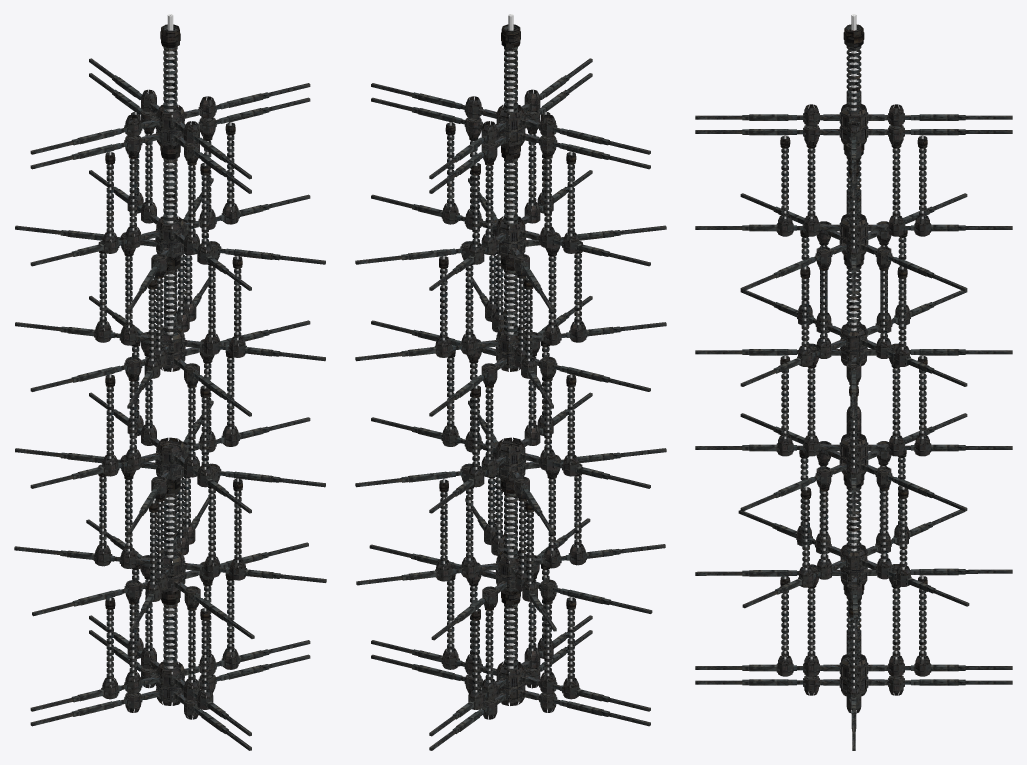
The model's file is Tower 1_20.fbx.
3 renders of one model, left to right at view 1: azimuth 30°, elevation 25°; view 2: azimuth 150°, elevation 25°; view 3: azimuth 270°, elevation 25°, orthographic.
Visible parts, largest first — view 1: spineBones_4, spineBones, spineBones_3, Main_Connector_2, spineBones_2, spineBones_1, Main_Connector, Main_Connector_5, Crossbeam_27, Crossbeam__3_, Main_Connector_4, Crossbeam__3__5 (+35 smaller); view 2: spineBones_4, Main_Connector_2, spineBones, spineBones_3, spineBones_1, spineBones_2, Main_Connector, Main_Connector_5, Crossbeam_27, Crossbeam__3_, Crossbeam__3__5, Main_Connector_4 (+38 smaller); view 3: spineBones_4, spineBones_2, spineBones_1, Crossbeam__1_, Crossbeam__2_, Crossbeam_26, Crossbeam_28, Crossbeam__1__5, Crossbeam__2__5, Crossbeam__3__1, Main_Connector_3, Main_Connector_1 (+34 smaller).
Boxes of the visible parts, x1=… form: spineBones_4: x1=163, y1=25, x2=177, y2=114; spineBones: x1=163, y1=603, x2=177, y2=671; spineBones_3: x1=163, y1=158, x2=177, y2=226; Main_Connector_2: x1=156, y1=437, x2=184, y2=483; spineBones_2: x1=163, y1=269, x2=177, y2=337; spineBones_1: x1=163, y1=492, x2=177, y2=560; Main_Connector: x1=156, y1=661, x2=184, y2=705; Main_Connector_5: x1=156, y1=104, x2=184, y2=148; Crossbeam_27: x1=30, y1=118, x2=159, y2=154; Crossbeam__3_: x1=30, y1=690, x2=159, y2=726; Main_Connector_4: x1=156, y1=216, x2=184, y2=260; Crossbeam__3__5: x1=30, y1=133, x2=159, y2=169; spineBones_4: x1=504, y1=25, x2=517, y2=114; Main_Connector_2: x1=496, y1=437, x2=525, y2=483; spineBones: x1=504, y1=603, x2=517, y2=671; spineBones_3: x1=504, y1=158, x2=517, y2=226; spineBones_1: x1=504, y1=492, x2=517, y2=560; spineBones_2: x1=504, y1=269, x2=517, y2=337; Main_Connector: x1=496, y1=661, x2=525, y2=705; Main_Connector_5: x1=496, y1=104, x2=525, y2=148; Crossbeam_27: x1=521, y1=118, x2=650, y2=154; Crossbeam__3_: x1=521, y1=690, x2=650, y2=726; Crossbeam__3__5: x1=521, y1=133, x2=650, y2=169; Main_Connector_4: x1=496, y1=216, x2=525, y2=260; spineBones_4: x1=846, y1=25, x2=861, y2=113; spineBones_2: x1=846, y1=266, x2=861, y2=333; spineBones_1: x1=846, y1=487, x2=861, y2=553; Crossbeam__1_: x1=695, y1=679, x2=839, y2=685; Crossbeam__2_: x1=868, y1=679, x2=1012, y2=685; Crossbeam_26: x1=695, y1=114, x2=849, y2=120; Crossbeam_28: x1=858, y1=114, x2=1012, y2=120; Crossbeam__1__5: x1=695, y1=129, x2=839, y2=135; Crossbeam__2__5: x1=868, y1=129, x2=1012, y2=135; Crossbeam__3__1: x1=867, y1=568, x2=1012, y2=575; Main_Connector_3: x1=841, y1=323, x2=866, y2=365; Main_Connector_1: x1=840, y1=544, x2=867, y2=586.
Bounding box in the file's own units: 9578 × 22585 × 9578.
11 materials, 8 textured.
